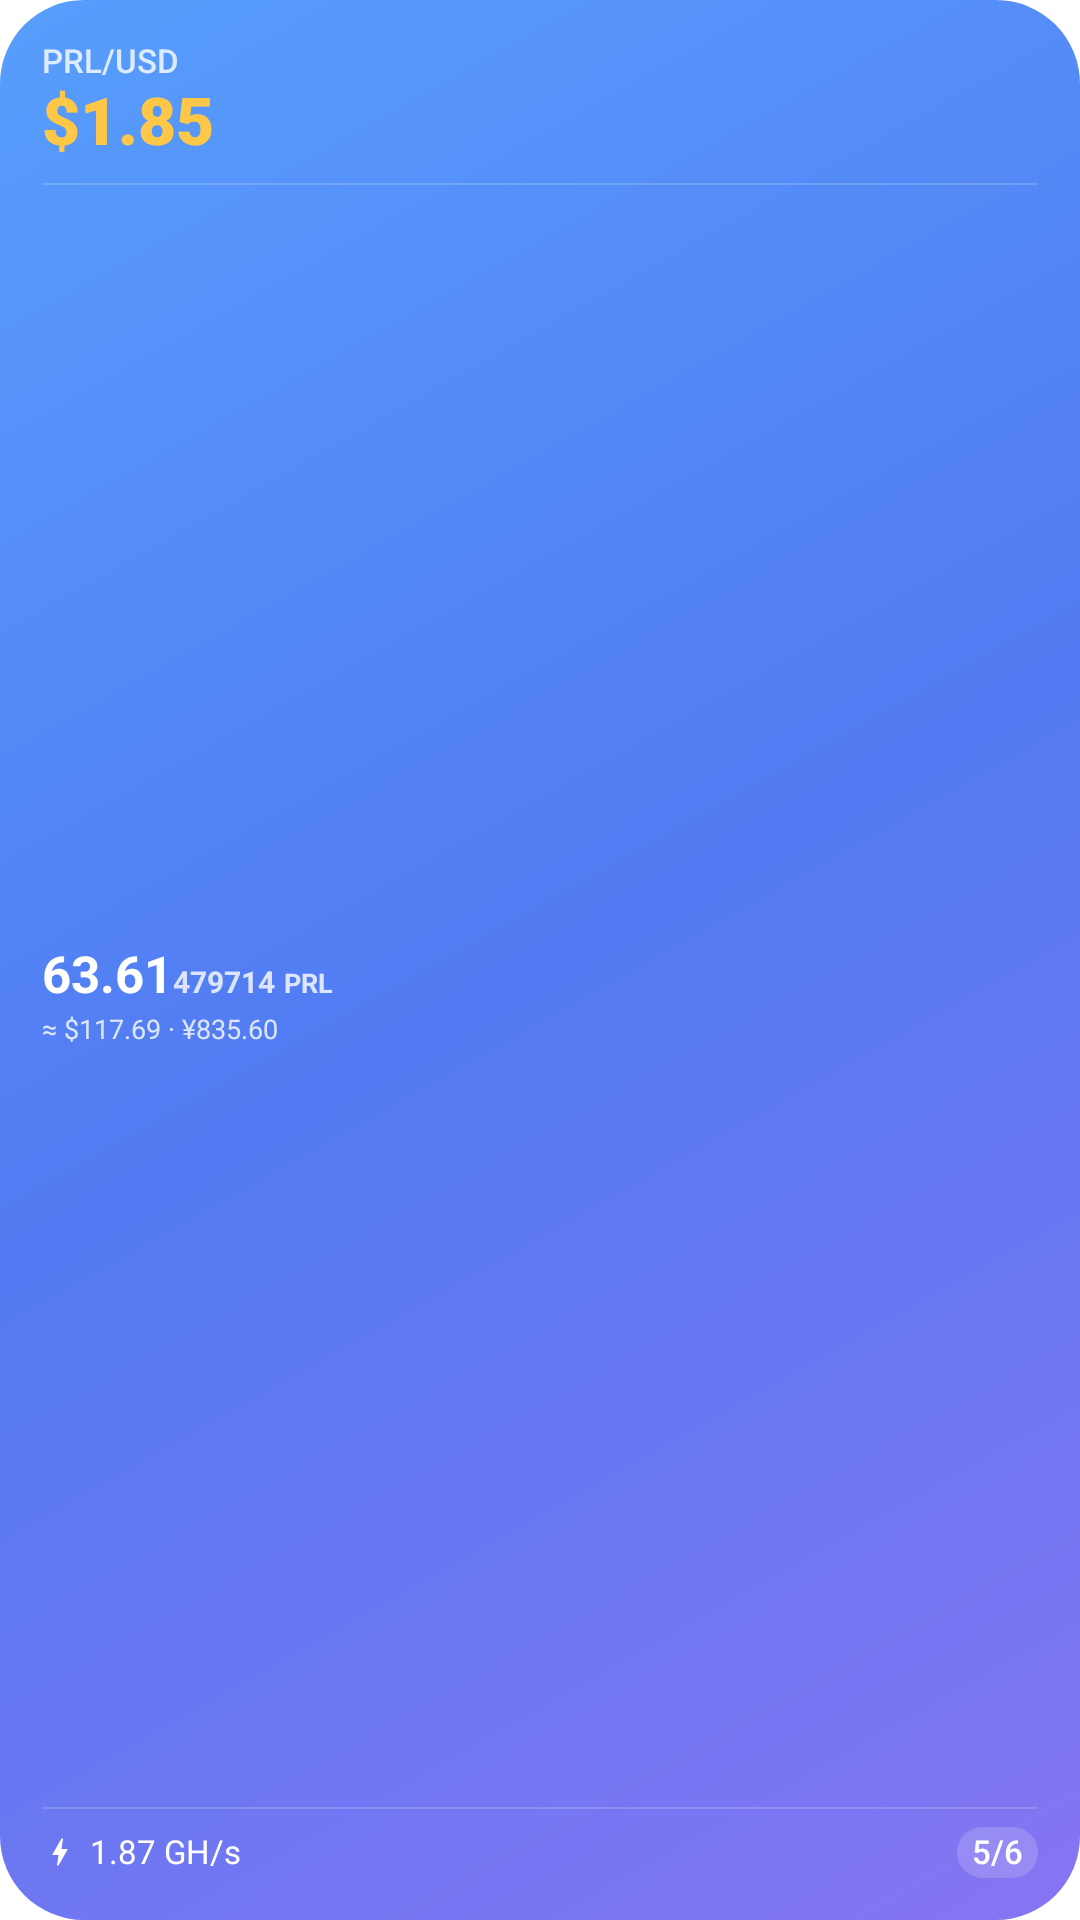

Where to tap for icons on this 1080 x 1920 app screen, as (x=x, y=y):
widget bolt: (x=60, y=1852)
